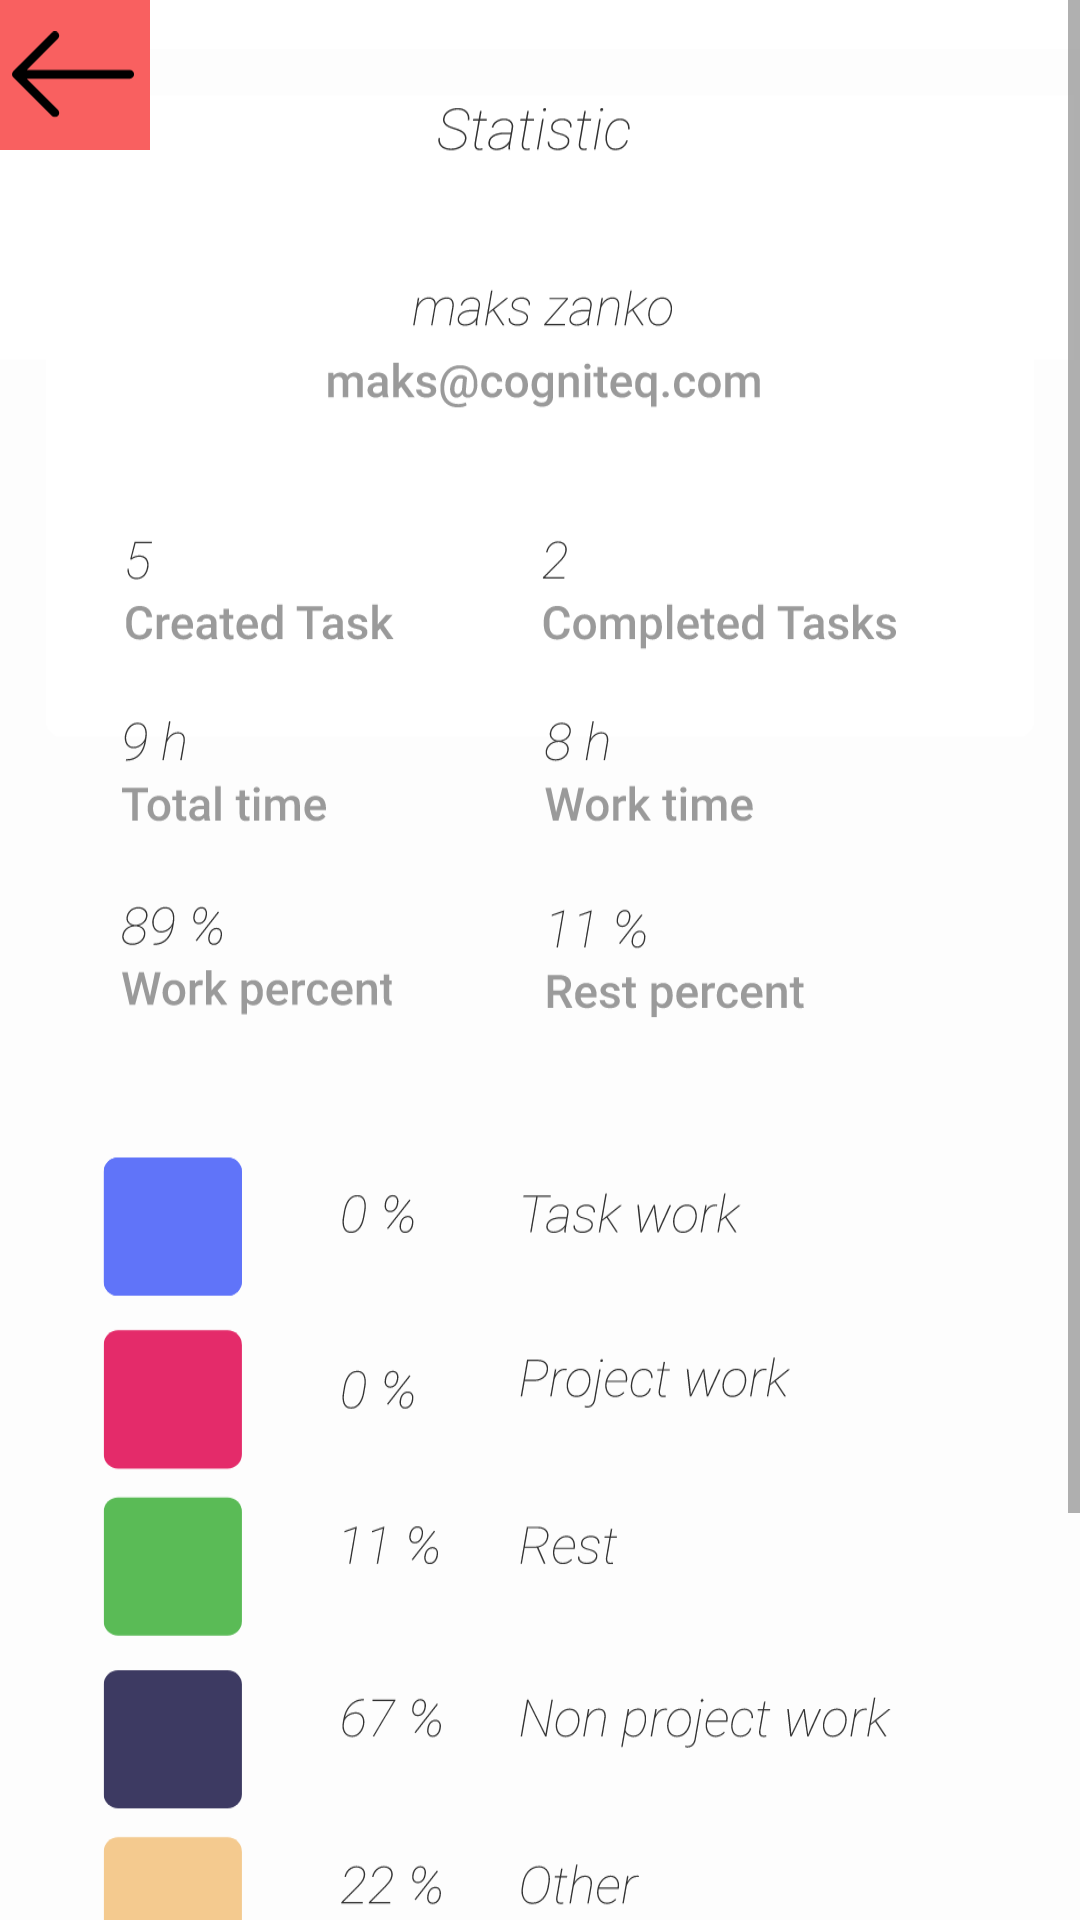

Icon click points for this 1080px x 1920px phone screenshot, format (x,y):
back arrow: (75,75)
